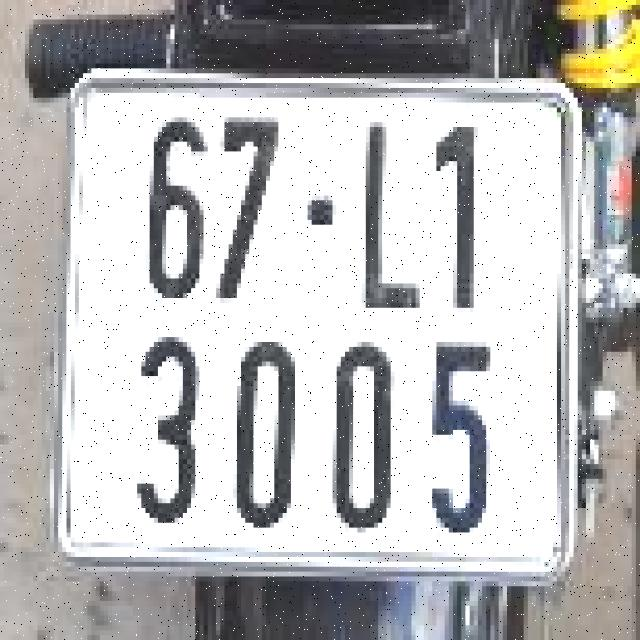0: (324, 320, 403, 559), (220, 332, 308, 542)
1: (426, 112, 497, 322)
3: (122, 325, 210, 530)
5: (414, 327, 509, 557)
6: (133, 100, 220, 310)
7: (210, 100, 289, 315)
L: (345, 95, 432, 320)
